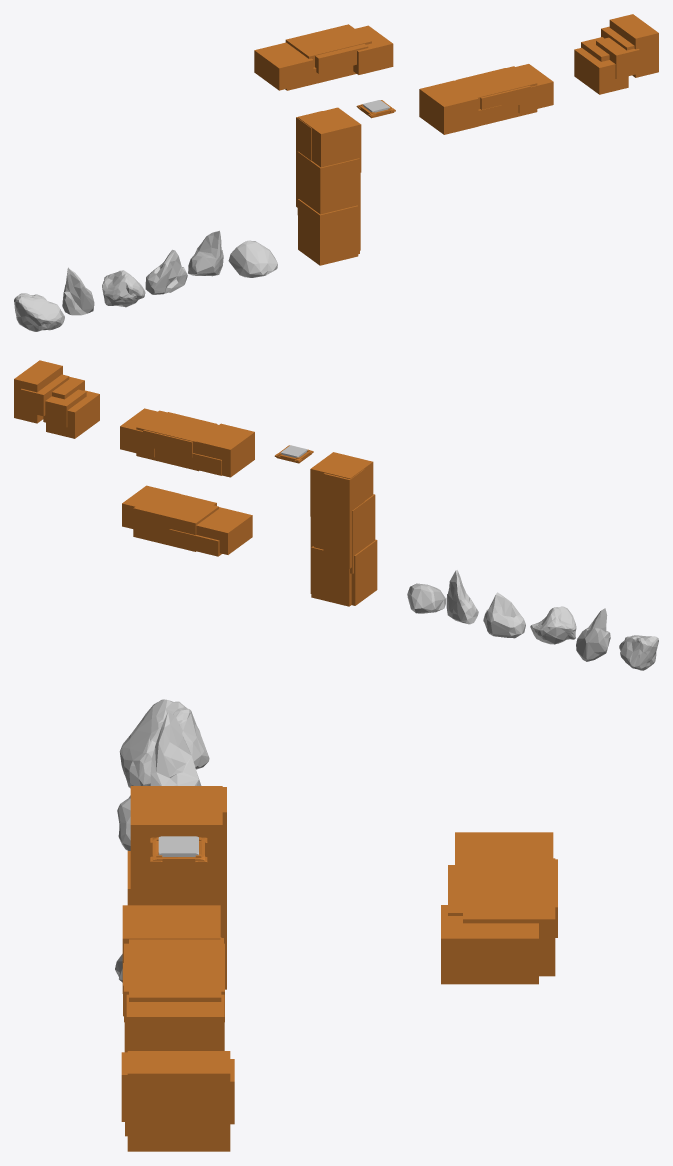
The model's file is ModularSet.fbx.
The picture shows the model from 3 angles, top to bottom: view 1: azimuth 30°, elevation 25°; view 2: azimuth 150°, elevation 25°; view 3: azimuth 270°, elevation 25°; orthographic projection. The views are drawn at different scales.
Parts seen in each view (by area): view 1: Cube.002, Cube.004, Cube.003, Cube.005, rocky body, rocky body.005, rocky body.004, rocky body.001, rocky body.003, rocky body.002; view 2: Cube.002, Cube.004, Cube.003, Cube.005, rocky body.001, rocky body.004, rocky body.002, rocky body, rocky body.003, rocky body.005; view 3: Cube.003, Cube.004, Cube.005, Cube.002, rocky body, rocky body.002, Cube.001, Cube.011.
Boxes of the visible parts, x1,y1,x2,y2 form: Cube.002: (296,107,361,265); Cube.004: (419,64,553,134); Cube.003: (254,24,393,90); Cube.005: (574,14,658,94); rocky body: (14,293,64,331); rocky body.005: (228,240,277,277); rocky body.004: (102,270,145,307); rocky body.001: (145,249,187,294); rocky body.003: (188,230,223,276); rocky body.002: (62,267,94,315); Cube.002: (310,452,377,606); Cube.004: (120,408,254,477); Cube.003: (122,485,252,556); Cube.005: (14,360,99,438); rocky body.001: (483,592,525,638); rocky body.004: (530,606,576,644); rocky body.002: (576,608,610,661); rocky body: (619,635,658,670); rocky body.003: (446,570,478,624); rocky body.005: (407,583,445,613); Cube.003: (441,832,557,984); Cube.004: (122,905,224,1052); Cube.005: (121,1051,234,1151); Cube.002: (124,786,226,1052); rocky body: (119,699,209,788); rocky body.002: (150,712,201,785); Cube.001: (158,836,198,856); Cube.011: (150,837,207,865).
Size of the model in its own units: 3296 by 761 by 1008.
